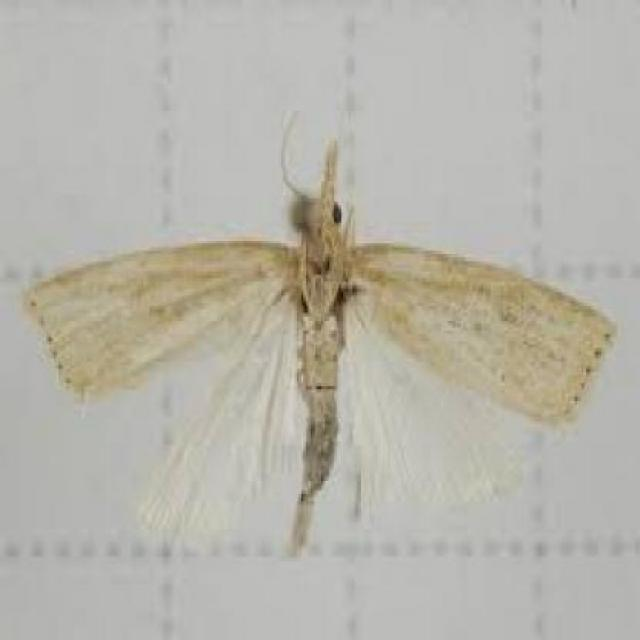stem-borer: (20, 137, 615, 535)
